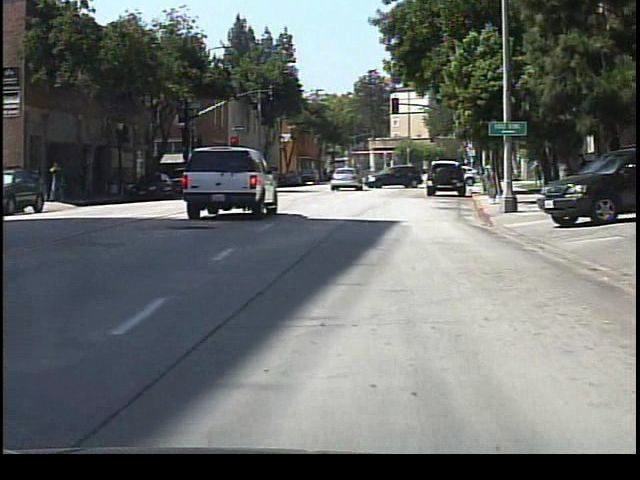person: (49, 157, 72, 206), (531, 158, 547, 190), (325, 162, 343, 188), (479, 155, 495, 182)
